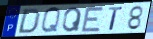8: (126, 5, 144, 31)
D: (16, 7, 42, 34)
E: (80, 6, 106, 33)
Q: (40, 7, 62, 35), (61, 7, 83, 34)
T: (108, 6, 124, 31)
